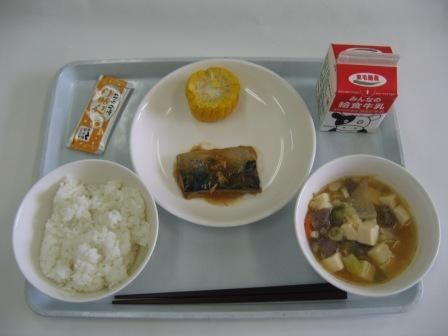Fish: (167, 145, 278, 210)
Milk: (298, 42, 410, 143)
Rice: (11, 161, 162, 297)
Soups: (292, 155, 442, 293)
corn: (182, 65, 247, 123)
